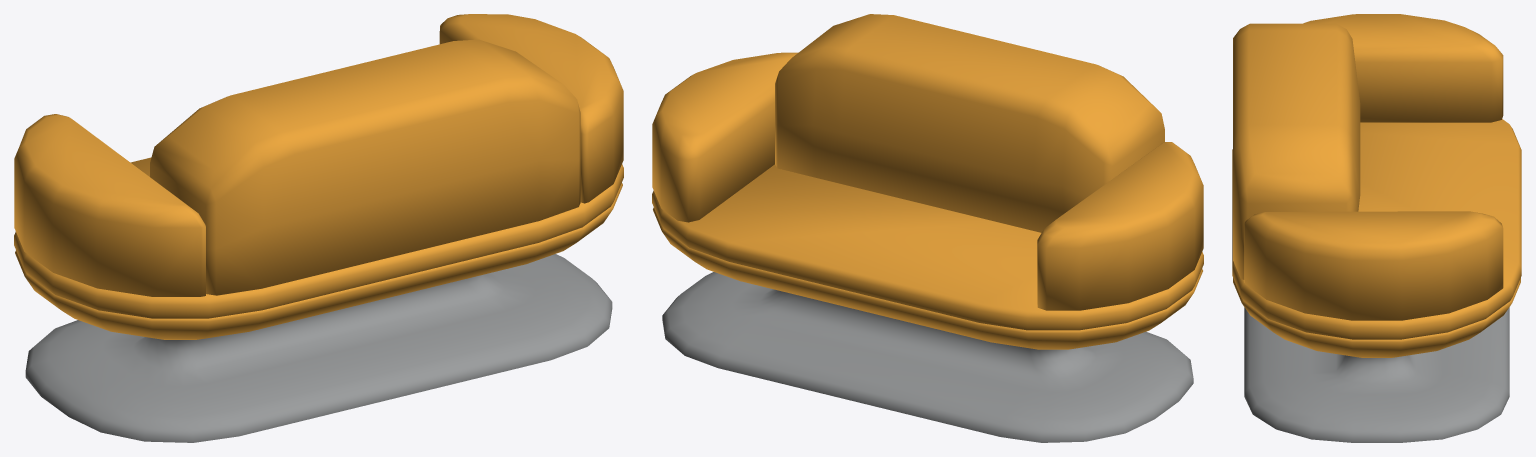
File: Couch_Yellow.fbx
3 renders of one model, left to right at view 1: azimuth 30°, elevation 25°; view 2: azimuth 150°, elevation 25°; view 3: azimuth 270°, elevation 25°, orthographic. The views are drawn at different scales.
Visible parts, largest first — view 1: Couch; view 2: Couch; view 3: Couch.
Part boxes in pixels (x1=…): Couch: x1=14, y1=14, x2=623, y2=442; Couch: x1=652, y1=14, x2=1203, y2=442; Couch: x1=1232, y1=14, x2=1521, y2=442.
Bounding box in the file's own units: 160 × 79.34 × 82.11.
